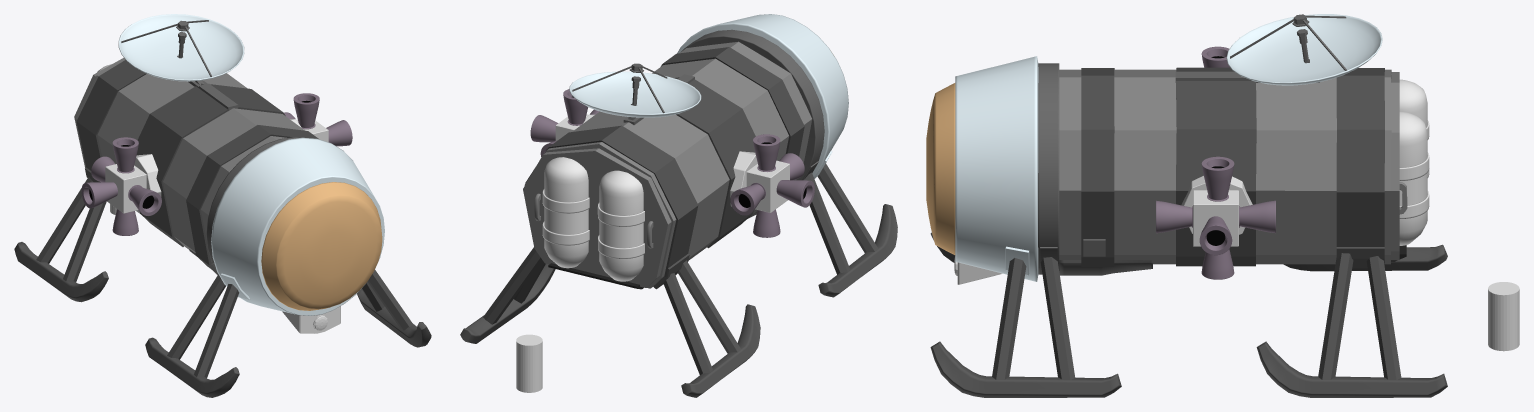
File: ExportedBlenderFBXFile.fbx
3 views of the same model, side by side, from view 1: azimuth 30°, elevation 25°; view 2: azimuth 150°, elevation 25°; view 3: azimuth 270°, elevation 25° (orthographic). The views are drawn at different scales.
Parts seen in each view (by area): view 1: Front Window, Front Cover, Hull, Skids.001, Circle, Hull.002, Hull.004, Skids.002, Thruster Holder, Thruster.001, Thruster.005, Ring (+6 smaller); view 2: Hull, Skids.002, Hull.002, Cylinder, Hull.001, Front Cover, Skids.001, Circle, Hull.004, Ring, Cylinder.001, Thruster Holder (+8 smaller); view 3: Hull, Front Cover, Hull.002, Skids.002, Hull.004, Skids.001, Circle, Front Window, Ring, Cylinder, Thruster Holder, Player Height (+11 smaller).
Boxes of the visible parts, <box> form: Front Window: <box>261,182,382,310</box>; Front Cover: <box>211,137,384,315</box>; Hull: <box>76,58,304,264</box>; Skids.001: <box>145,270,431,397</box>; Circle: <box>118,14,244,81</box>; Hull.002: <box>76,60,318,273</box>; Hull.004: <box>136,83,285,246</box>; Skids.002: <box>14,177,108,302</box>; Thruster Holder: <box>105,119,328,213</box>; Thruster.001: <box>112,93,319,173</box>; Thruster.005: <box>81,120,352,208</box>; Ring: <box>206,137,300,263</box>; Hull: <box>524,41,812,288</box>; Skids.002: <box>460,247,760,397</box>; Hull.002: <box>525,47,804,289</box>; Cylinder: <box>544,157,643,281</box>; Hull.001: <box>523,148,671,287</box>; Front Cover: <box>677,14,848,177</box>; Skids.001: <box>804,163,897,297</box>; Circle: <box>569,71,701,117</box>; Hull.004: <box>673,77,755,248</box>; Ring: <box>681,29,824,180</box>; Cylinder.001: <box>542,189,644,258</box>; Thruster Holder: <box>555,114,789,212</box>; Hull: <box>1059,69,1391,264</box>; Front Cover: <box>955,56,1038,281</box>; Hull.002: <box>1081,68,1384,268</box>; Skids.002: <box>1256,244,1447,397</box>; Hull.004: <box>1176,67,1256,266</box>; Skids.001: <box>930,232,1121,397</box>; Circle: <box>1226,14,1382,85</box>; Front Window: <box>926,83,955,254</box>; Ring: <box>1038,63,1059,274</box>; Cylinder: <box>1399,79,1427,245</box>; Thruster Holder: <box>1181,176,1252,246</box>; Player Height: <box>1488,282,1519,351</box>.
Size of what is drawn, in the model's own units: 12.4 by 11.66 by 19.82.
